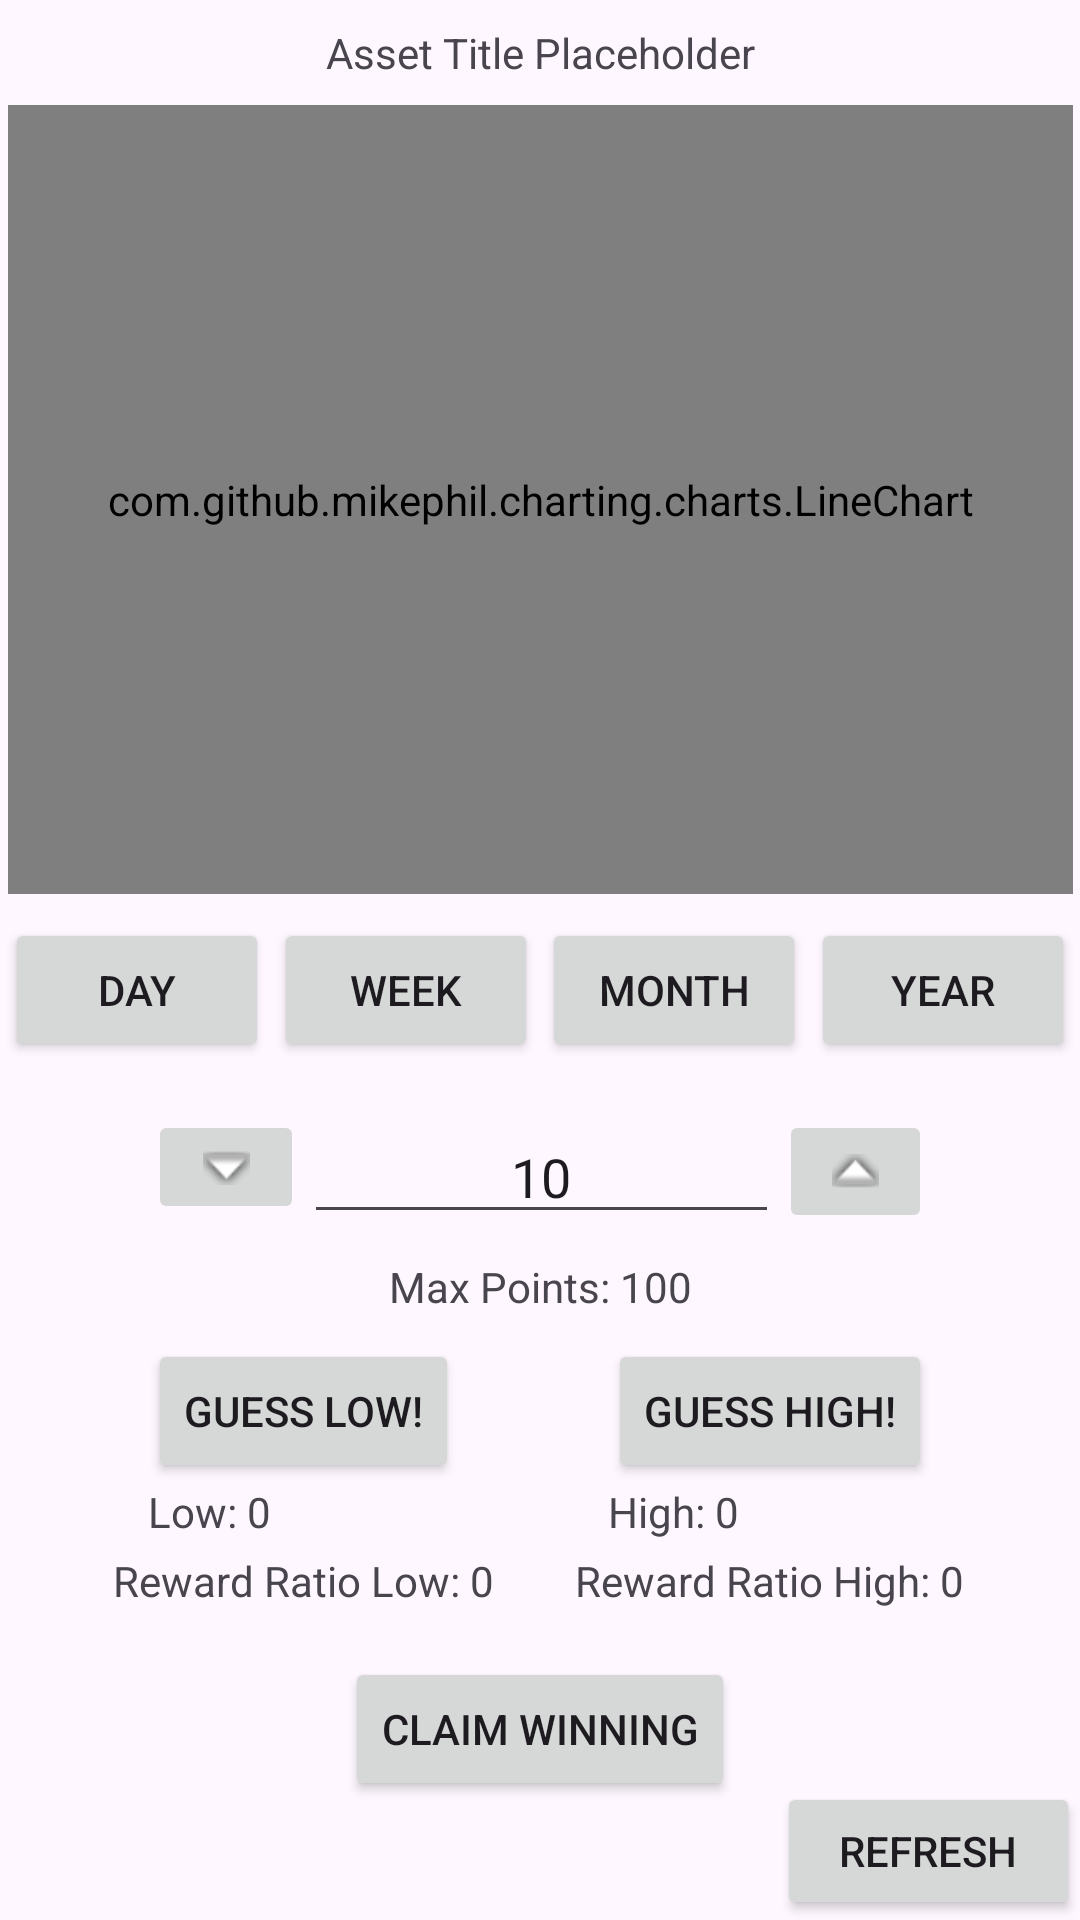

Named icons in this screenshot (1080w x 1920h) and their bounding boxes, (x1, y1, x2, y2):
arrow down float: (160, 1128, 292, 1206)
arrow up float: (791, 1128, 920, 1215)
